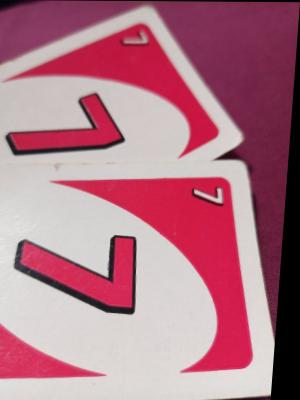num_7: (114, 21, 156, 54)
